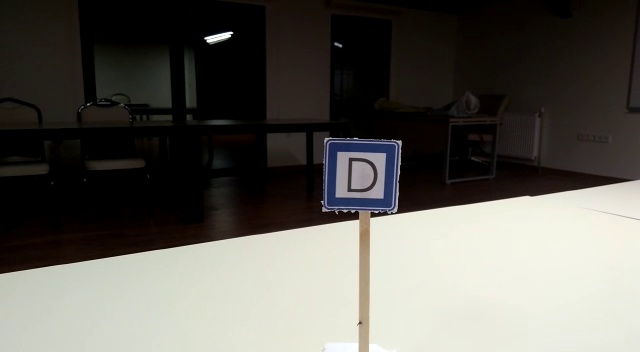durak: (322, 140, 399, 211)
